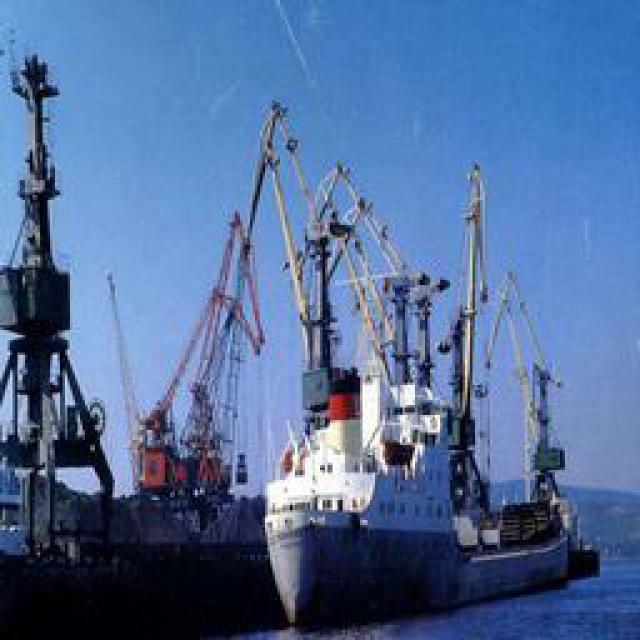Ship: (237, 349, 581, 626)
